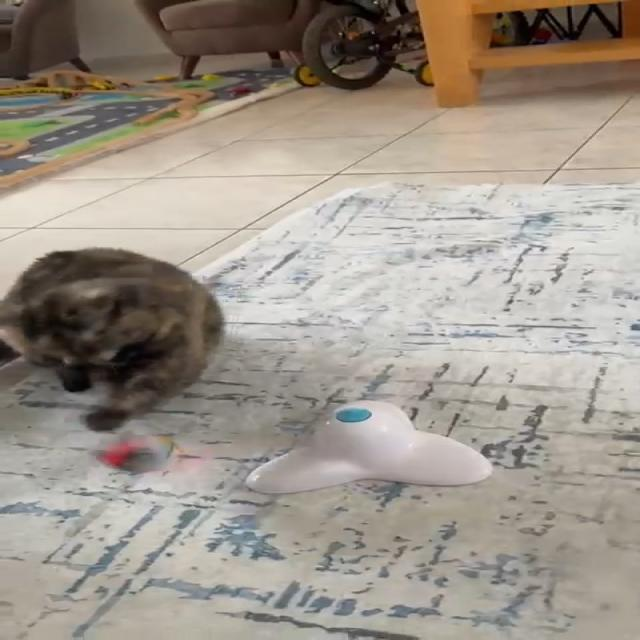authorized: (0, 245, 225, 431)
